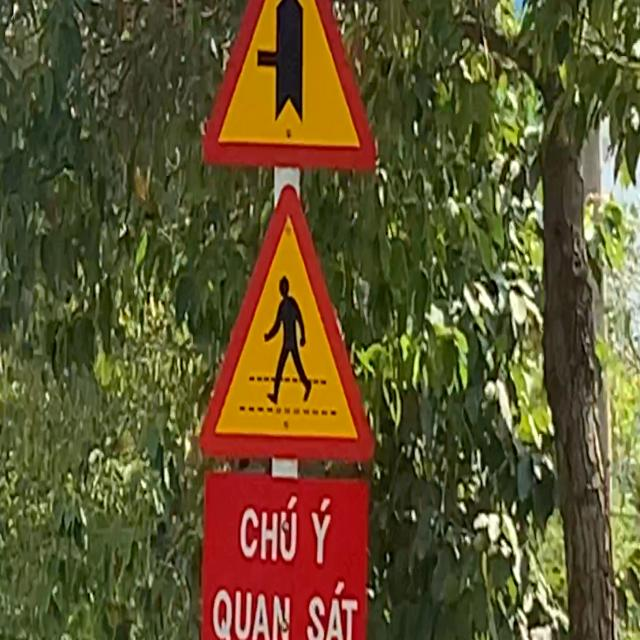Duong giao nhau: (196, 0, 380, 175)
Nguoi di bo cat ngang: (194, 180, 378, 465)
